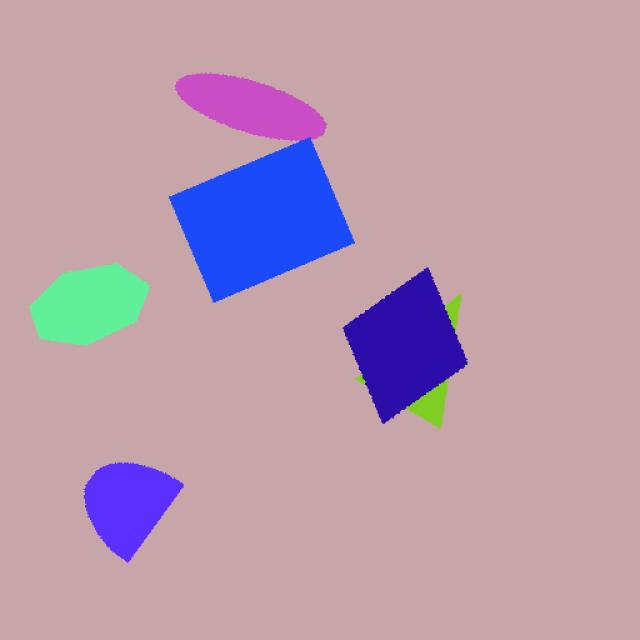Heptagon: (8, 256, 158, 370)
Oval: (171, 56, 340, 152)
Rectangle: (171, 128, 354, 307)
Semicircle: (76, 444, 189, 570)
Triangle: (382, 292, 465, 424)
square: (315, 256, 471, 429)
